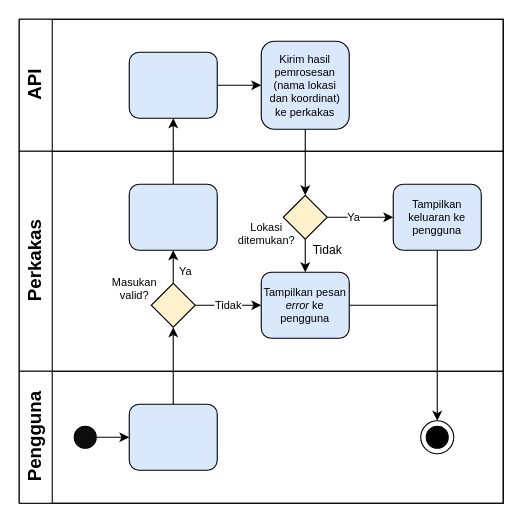
The diagram is 523 pixels wide and 523 high, and some of its shapes have lost their labels. The centre of each missing label's shape, as x and y in pixels:
"Ketik masukan (kata kunci pencarian)" belongs at (172,436).
"Kirim masukan ke API" belongs at (172,216).
"Proses masukan dari API" belongs at (172,84).
